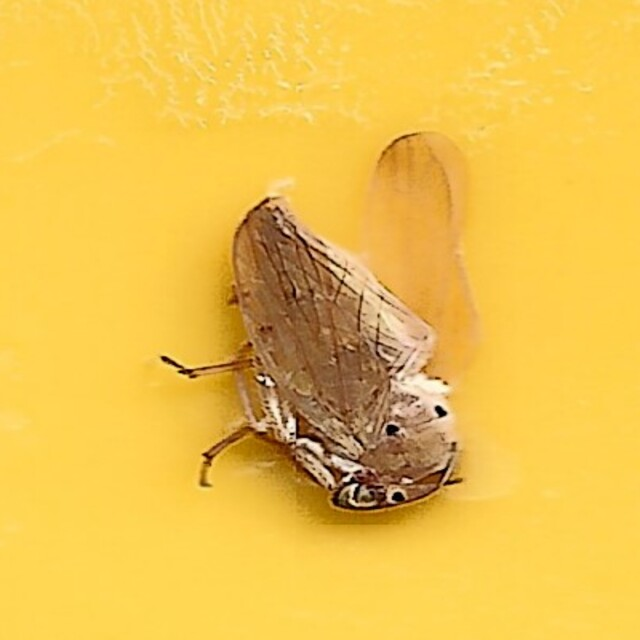Hemiptera: (160, 130, 480, 510)
